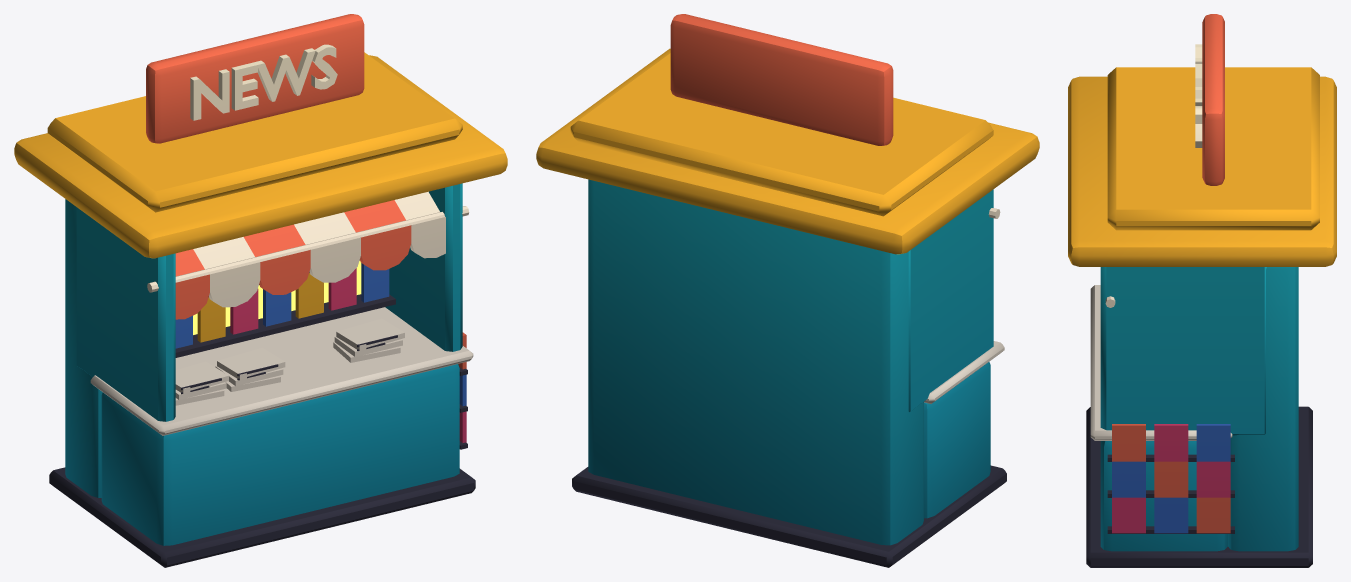
The model's file is newsstand.glb.
3 views of the same model, side by side, from view 1: azimuth 30°, elevation 25°; view 2: azimuth 150°, elevation 25°; view 3: azimuth 270°, elevation 25° (orthographic). The views are drawn at different scales.
Visible parts, largest first — view 1: newsstand; view 2: newsstand; view 3: newsstand.
Part boxes in pixels (x1=…): newsstand: x1=14, y1=14, x2=507, y2=567; newsstand: x1=536, y1=14, x2=1039, y2=567; newsstand: x1=1068, y1=14, x2=1336, y2=567.
Bounding box in the file's own units: 2.9 × 3.38 × 1.9.
